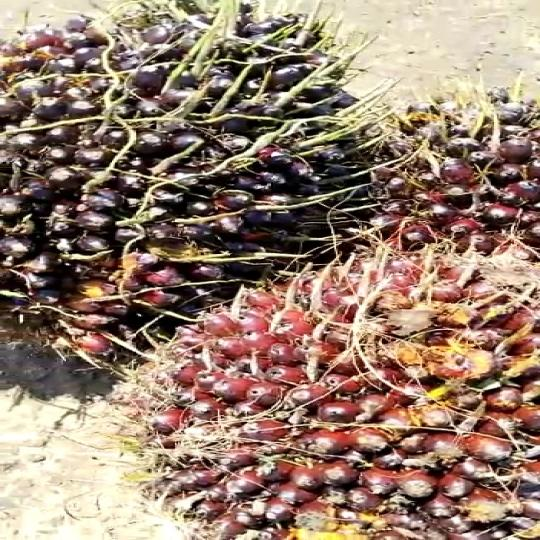kurang masak: (0, 0, 371, 393), (98, 233, 540, 539)
